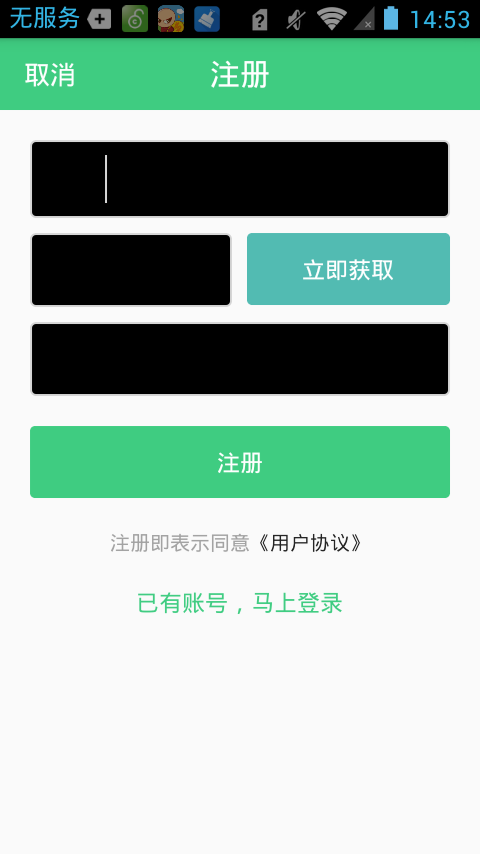button: (238, 227, 453, 308)
textview: (98, 526, 366, 560)
